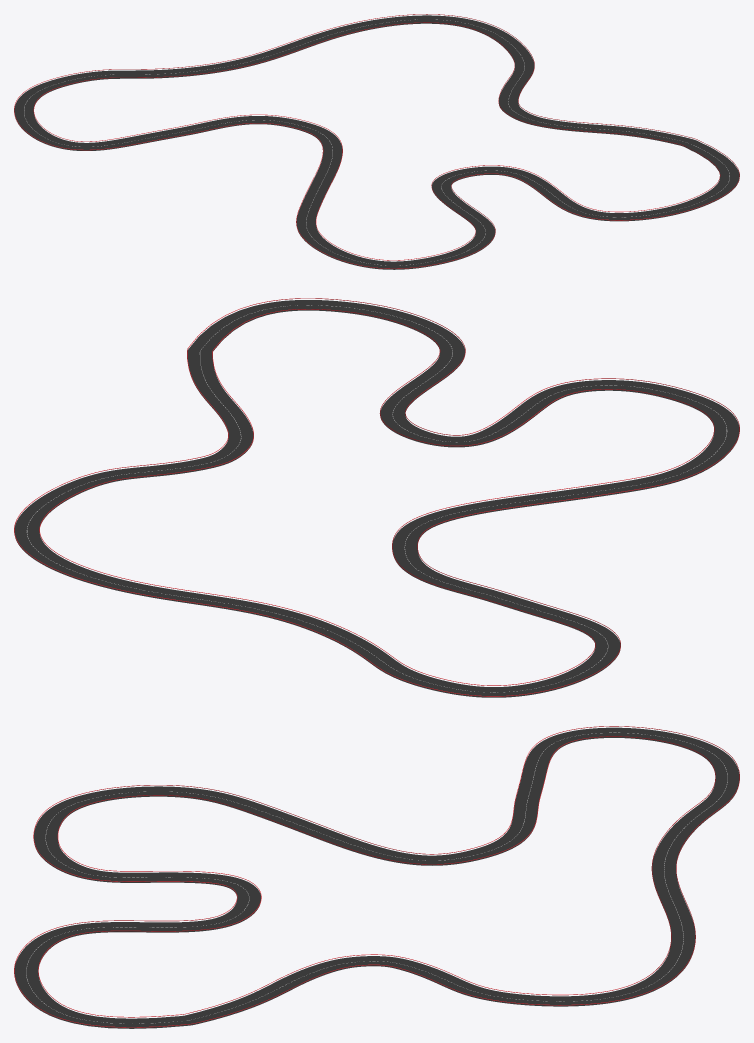
File: Track4С.fbx
The picture shows the model from 3 angles, top to bottom: view 1: azimuth 30°, elevation 25°; view 2: azimuth 150°, elevation 25°; view 3: azimuth 270°, elevation 25°; orthographic projection. The views are drawn at different scales.
Parts seen in each view (by area): view 1: Track, Цилиндр.001, Цилиндр; view 2: Track, Цилиндр.001, Цилиндр; view 3: Track, Цилиндр.001, Цилиндр.
Boxes of the visible parts, box(x1,y1,x2,y2) form: Track: box(14, 15, 739, 269); Цилиндр.001: box(14, 14, 739, 268); Цилиндр: box(33, 22, 720, 260); Track: box(14, 300, 739, 697); Цилиндр.001: box(14, 298, 739, 696); Цилиндр: box(39, 309, 714, 685); Track: box(14, 727, 739, 1028); Цилиндр.001: box(14, 726, 739, 1027); Цилиндр: box(38, 736, 715, 1017).
Size of the model in its own units: 7662 by 18.65 by 7800.
